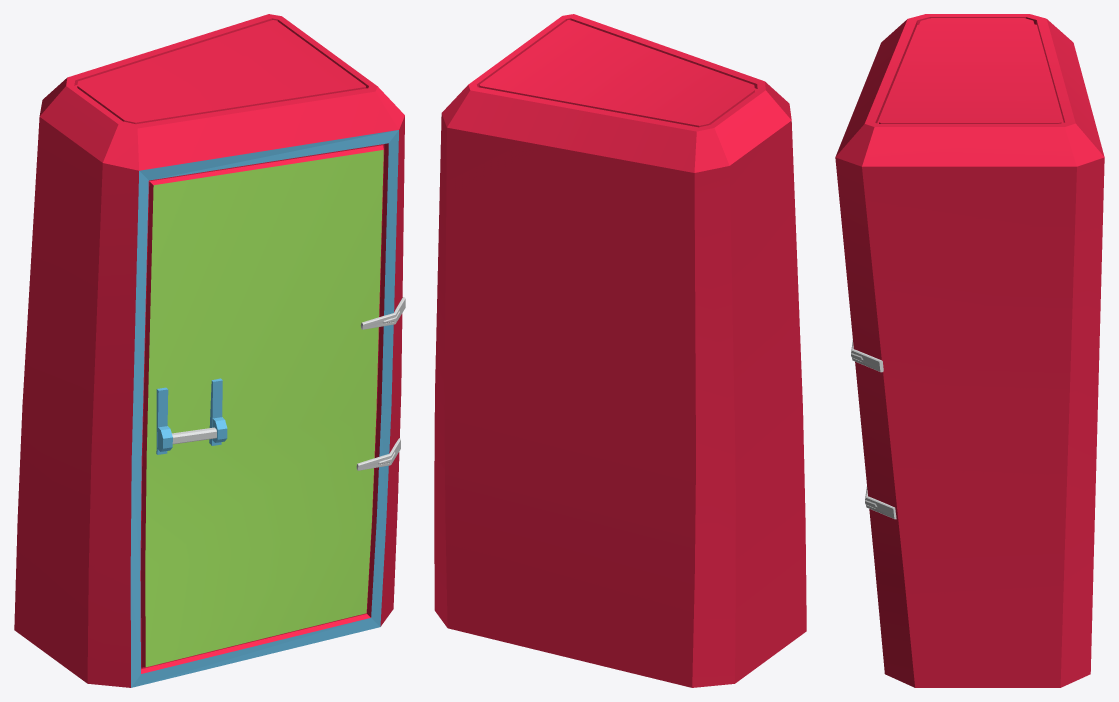
Rendered from Kitchen_Fridge.fbx.
3 views of the same model, side by side, from view 1: azimuth 30°, elevation 25°; view 2: azimuth 150°, elevation 25°; view 3: azimuth 270°, elevation 25° (orthographic).
Visible parts, largest first — view 1: Fridge; view 2: Fridge; view 3: Fridge.
Part boxes in pixels (<box>): Fridge: <box>14,14,405,687</box>; Fridge: <box>434,14,806,687</box>; Fridge: <box>835,14,1104,687</box>.
Size of the model in its own units: 118 by 201 by 90.26.
1 material, 1 textured.
